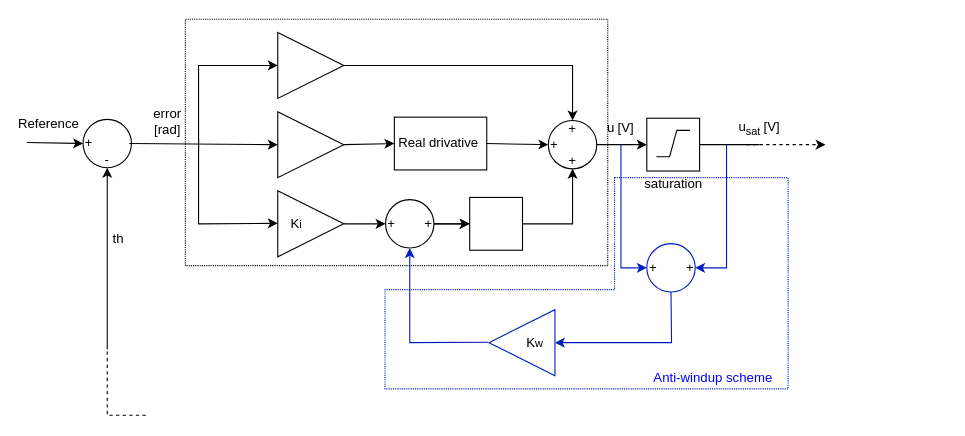
This 965x436 diagram has some shape labels left out. Each missing label, with the box of its shape:
1/s: (469, 196, 522, 250)
K d: (277, 111, 344, 178)
K p: (277, 31, 344, 98)
PID controller: (184, 18, 608, 266)
